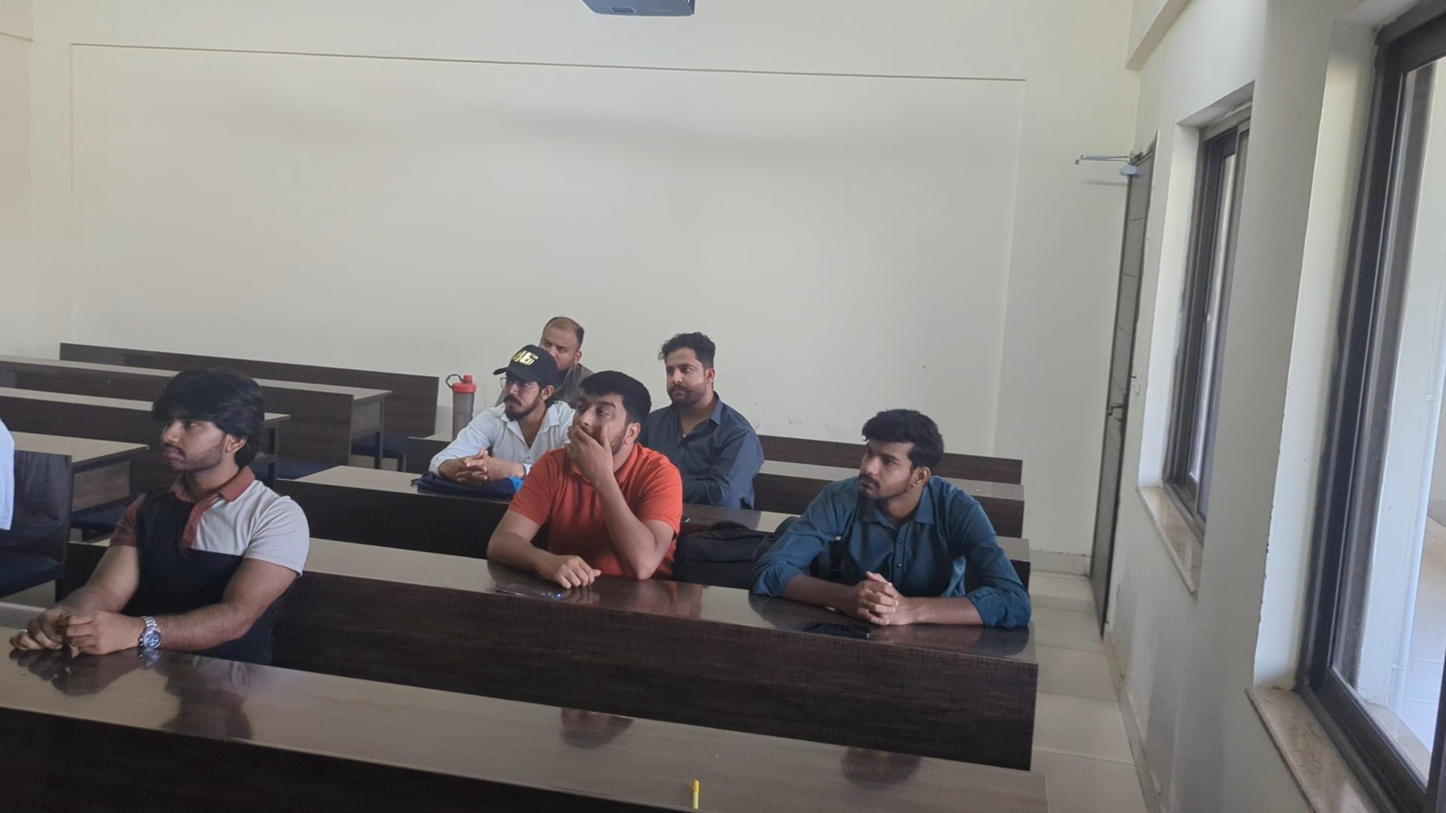look_forward: (122, 383, 297, 653), (792, 390, 977, 620), (648, 319, 774, 486), (522, 378, 678, 504), (535, 298, 628, 392), (481, 348, 542, 451)
